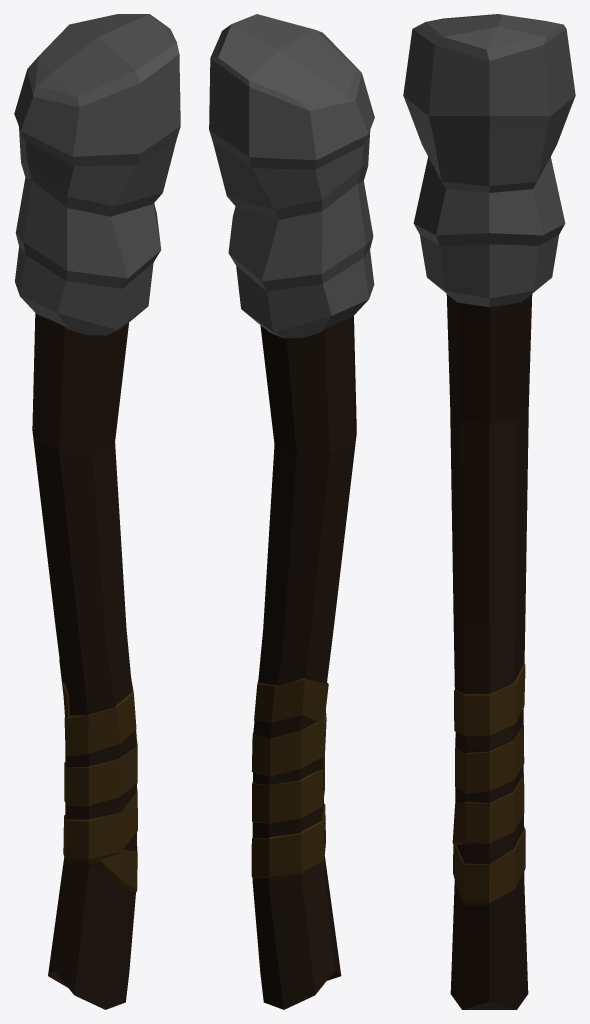
The model's file is torch.obj.
The picture shows the model from 3 angles, left to right: view 1: azimuth 30°, elevation 25°; view 2: azimuth 150°, elevation 25°; view 3: azimuth 270°, elevation 25°; orthographic projection. The views are drawn at different scales.
Parts seen in each view (by area): view 1: WoodenTorch; view 2: WoodenTorch; view 3: WoodenTorch.
Part boxes in pixels (<box>): WoodenTorch: <box>14,14,180,1009</box>; WoodenTorch: <box>209,14,374,1009</box>; WoodenTorch: <box>403,14,575,1009</box>.
Bounding box in the file's own units: 0.4572 × 2.69 × 0.4188.
